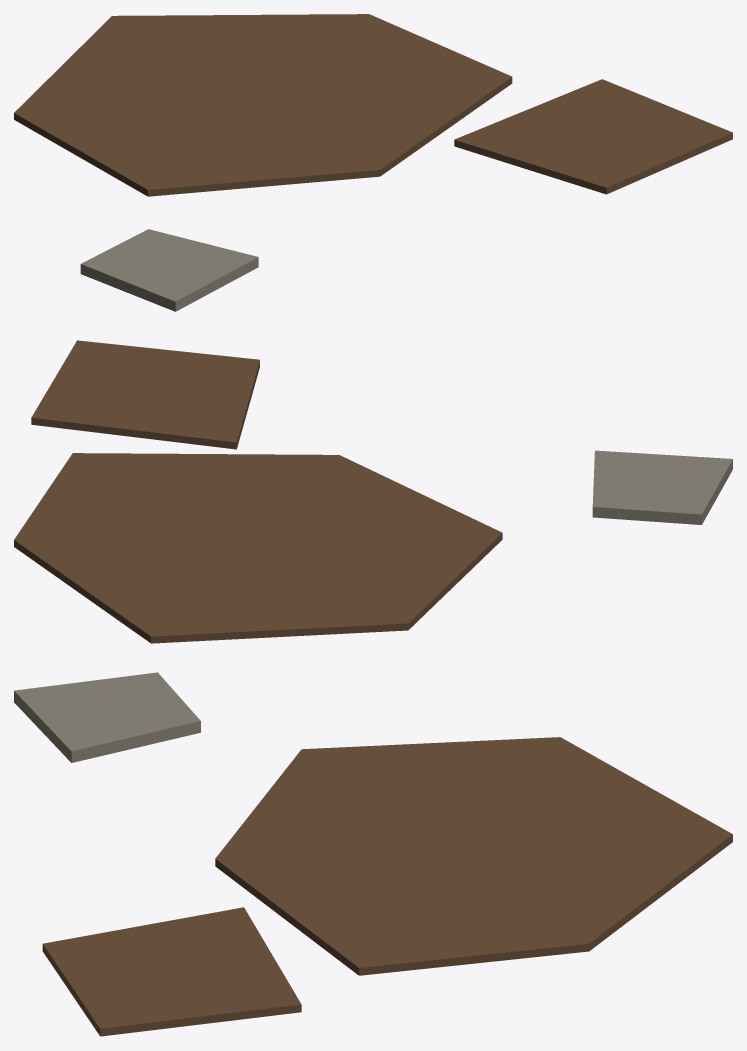
File: dirt.glb
3 renders of one model, top to bottom at view 1: azimuth 30°, elevation 25°; view 2: azimuth 150°, elevation 25°; view 3: azimuth 270°, elevation 25°, orthographic. The views are drawn at different scales.
Visible parts, largest first — view 1: dirt; view 2: dirt; view 3: dirt.
Boxes of the visible parts, <box> form: dirt: <box>14,14,732,311</box>; dirt: <box>14,340,732,643</box>; dirt: <box>14,672,732,1036</box>.
Size of the model in its own units: 0.58 by 0.009 by 0.5.
